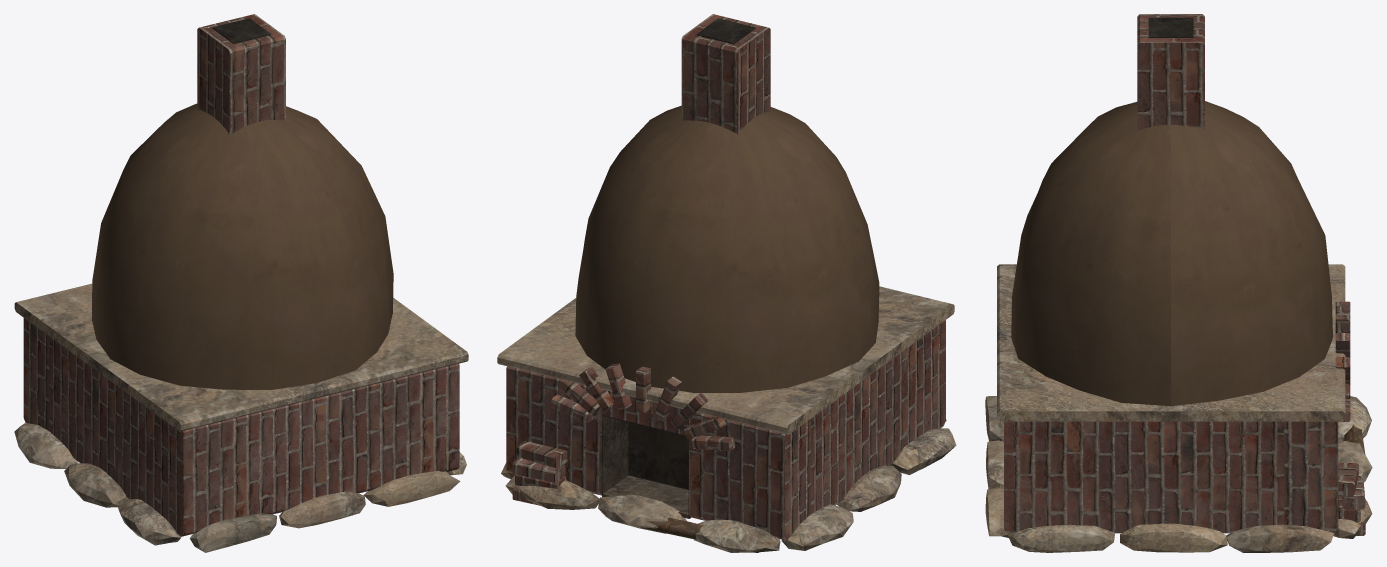
File: b_kiln.glb
The picture shows the model from 3 angles, left to right: view 1: azimuth 30°, elevation 25°; view 2: azimuth 150°, elevation 25°; view 3: azimuth 270°, elevation 25°; orthographic projection. The views are drawn at different scales.
Visible parts, largest first — view 1: b_kiln; view 2: b_kiln; view 3: b_kiln.
Boxes of the visible parts, <box> form: b_kiln: <box>14,14,468,552</box>; b_kiln: <box>497,14,956,552</box>; b_kiln: <box>985,14,1372,552</box>.
Bounding box in the file's own units: 1.72 × 2.19 × 1.71.
4 materials, 4 textured.
